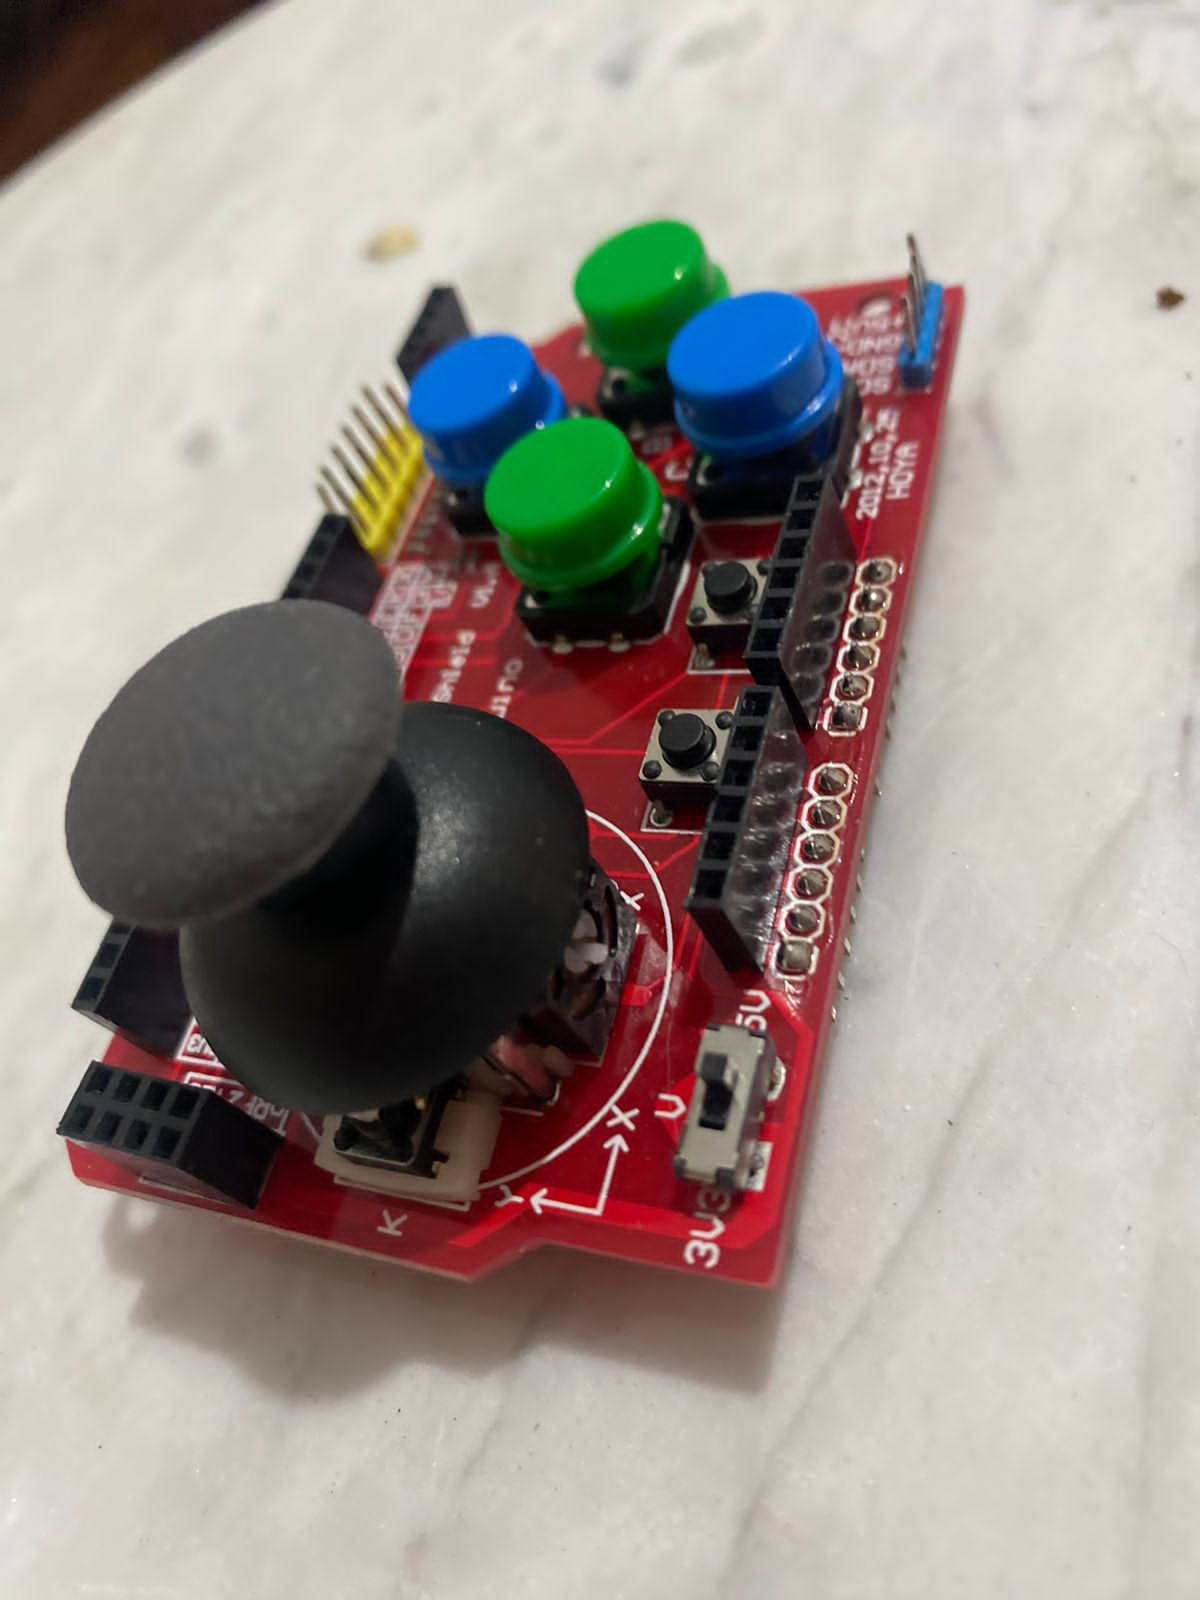Clavier-Joystick: (57, 220, 966, 1293)
